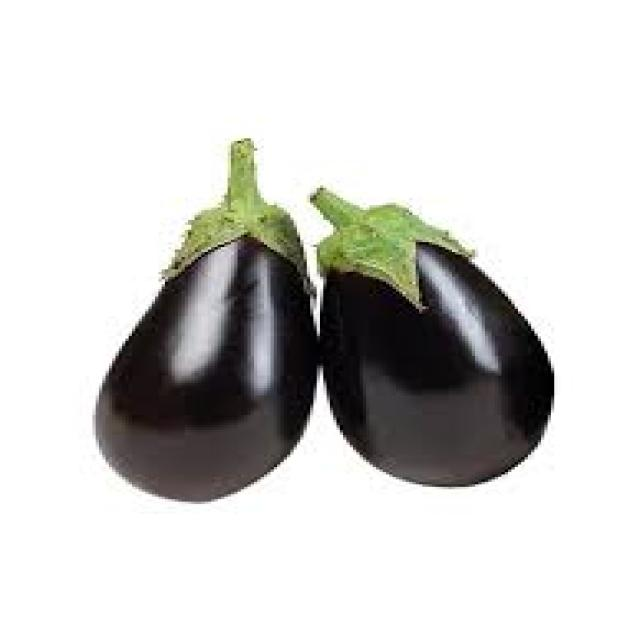eggplant: (99, 136, 310, 502), (310, 190, 554, 487)
